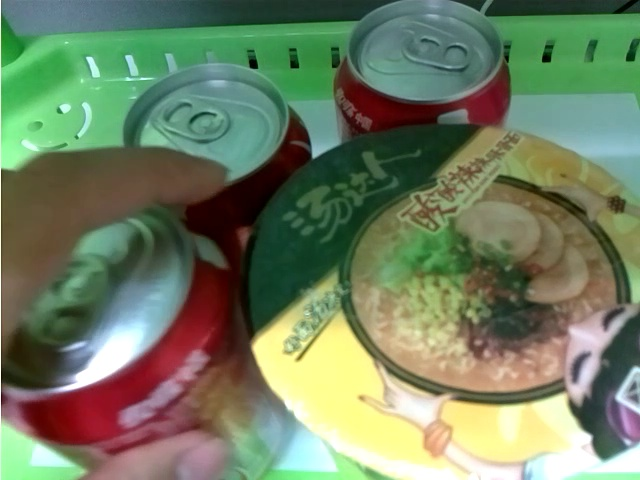cocacola: (9, 199, 287, 479), (117, 67, 313, 214), (333, 3, 513, 133)
hand: (1, 151, 231, 480)
noodles: (237, 121, 640, 480)
